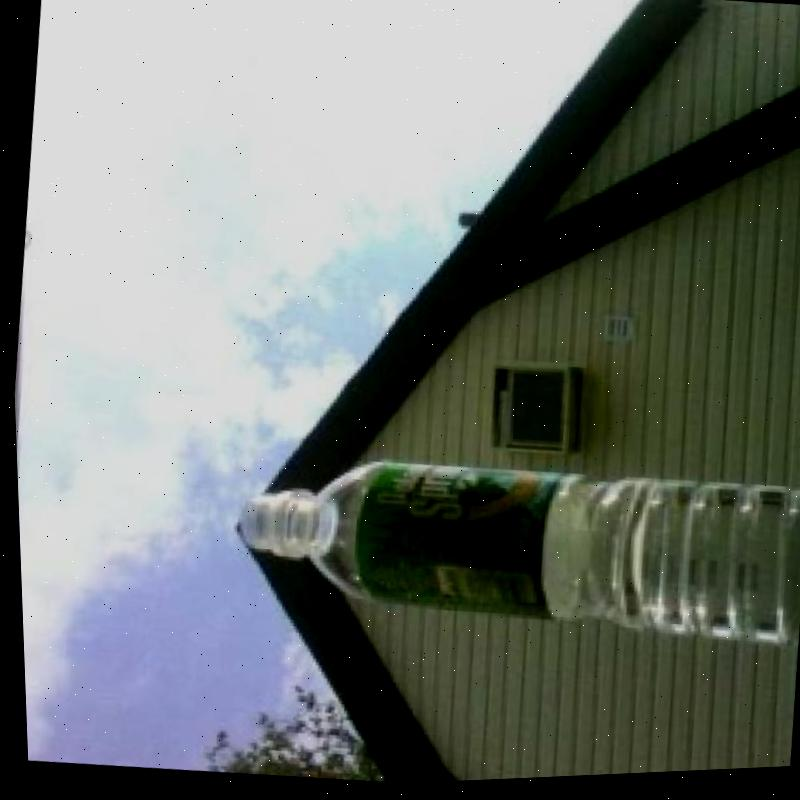botella: (223, 433, 800, 671)
